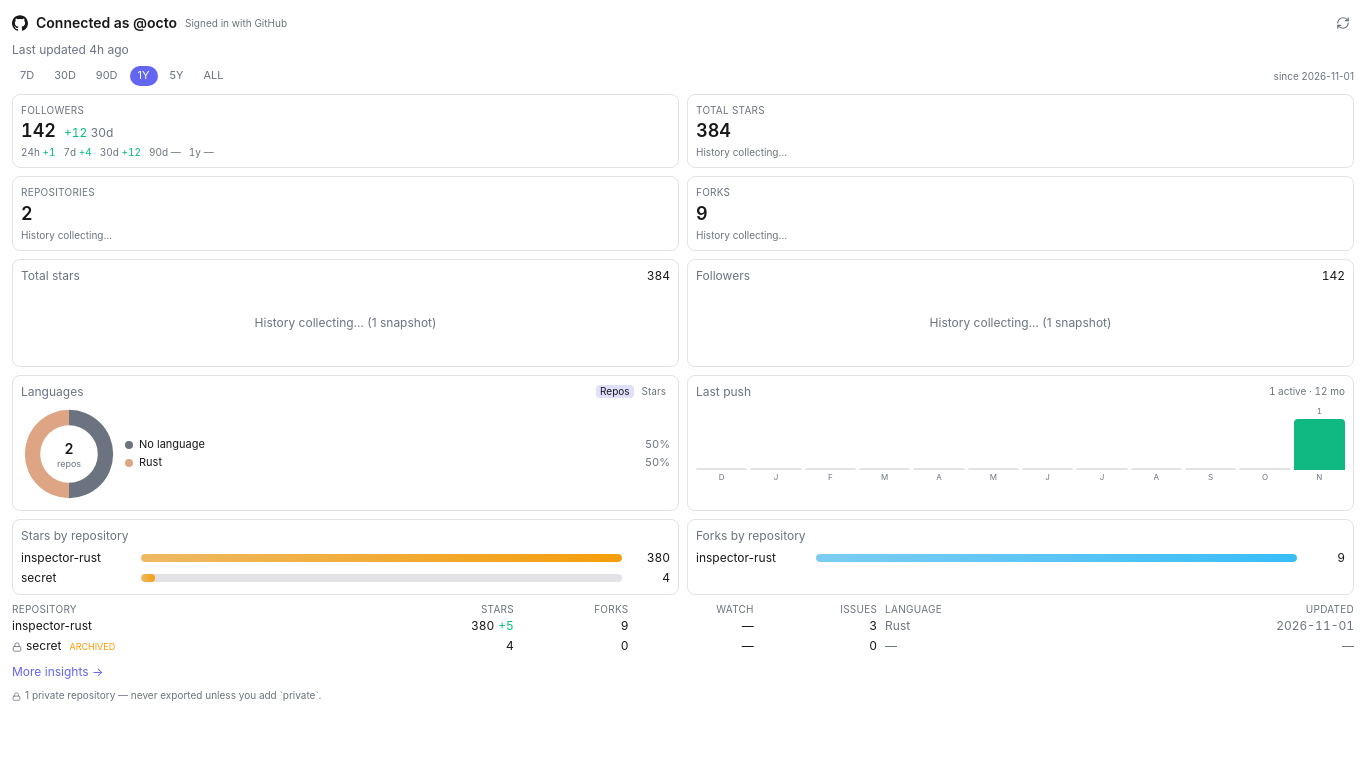
Test: GithubPanel › draws charts that need no history: languages, last-push activity, stars/forks by repository
Expected: the element with test id "gh-languages" shows "Rust", [139,455,162,469]
Expected: the element with test id "gh-languages" shows "No language", [139,437,205,451]
Note: Switching to stars weighs by stars (380 vs 4) — the share changes.
What coordinates should you click on to do the following:
click the button "Stars"
I would click on:
 (654, 392)
Its box is [638,385,670,398].
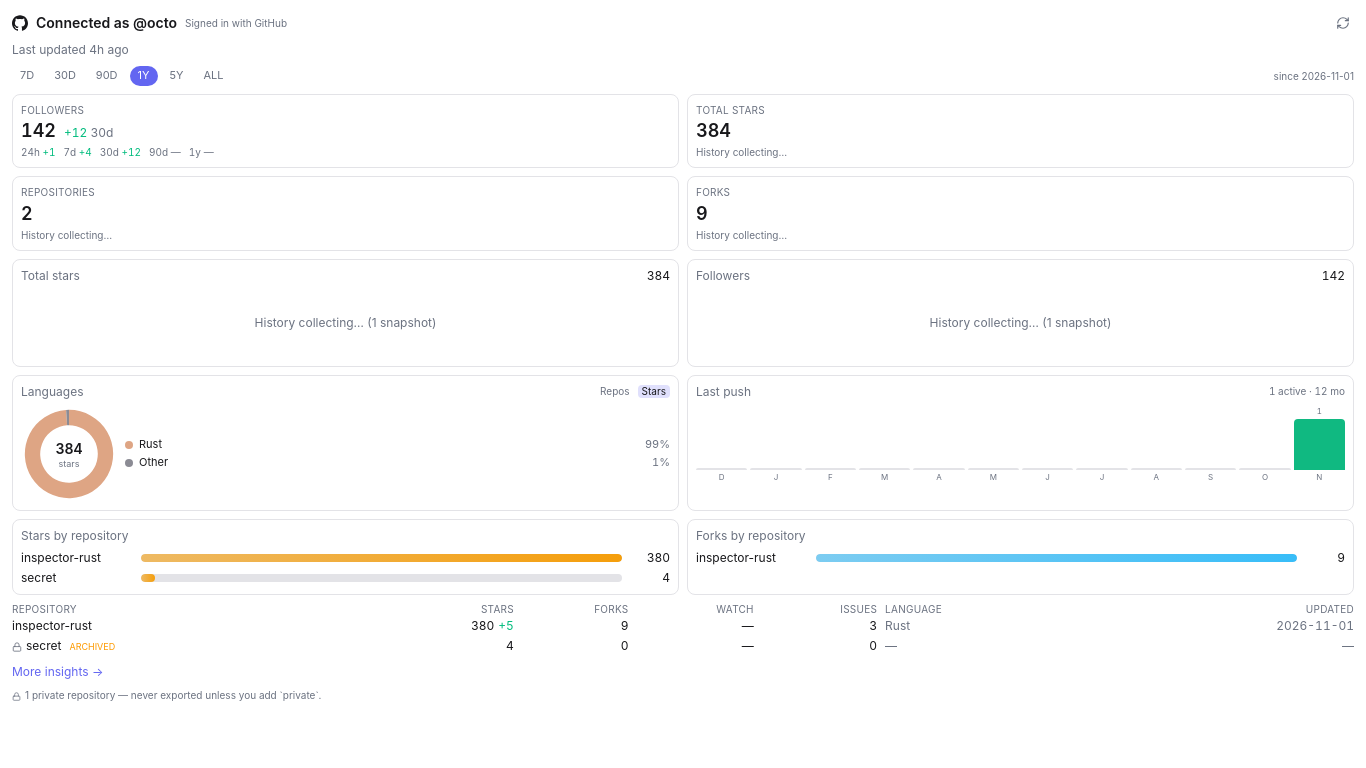
Expected: the element with test id "gh-activity" shows "1 active", [1269,385,1345,397]
Expected: the element with test id "gh-languages" shows "99%", [12,375,679,511]
